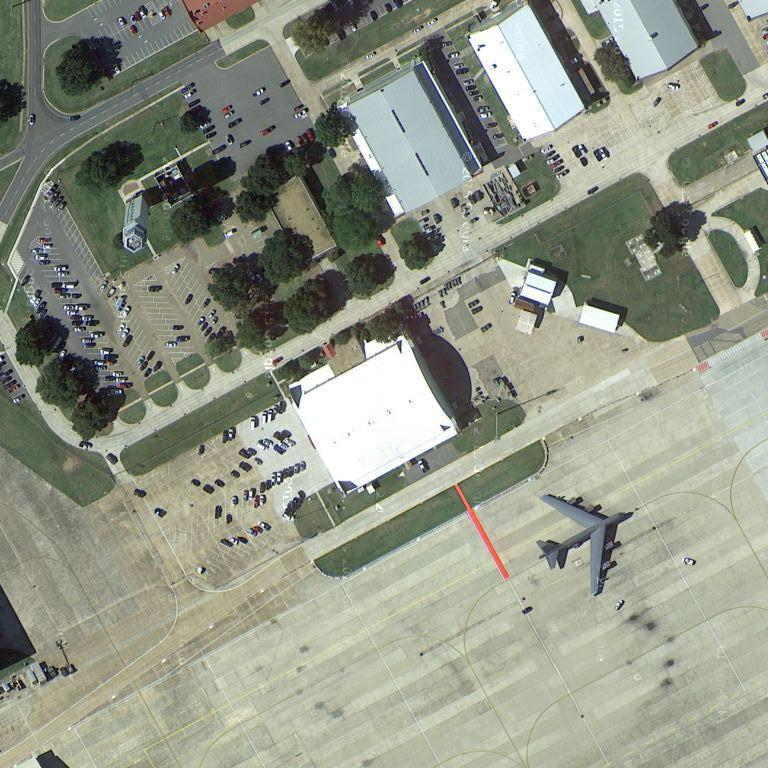B-52: (533, 491, 636, 599)
